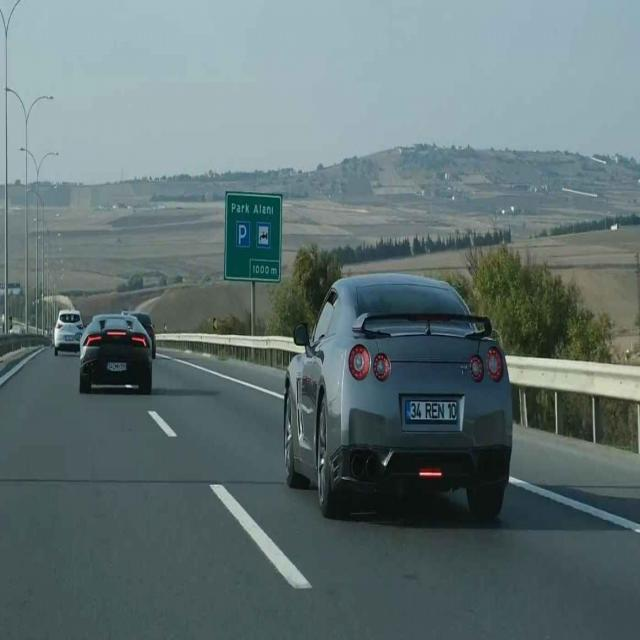plate: (404, 399, 458, 425), (106, 361, 127, 373), (64, 336, 74, 342)
